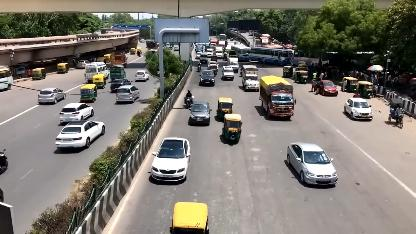auto-rikshaw: (221, 112, 243, 146), (216, 94, 235, 122), (356, 81, 376, 98), (342, 76, 358, 91), (294, 70, 309, 82), (283, 65, 293, 77)
bike: (184, 94, 194, 108)
bus: (250, 46, 293, 65), (231, 44, 252, 62)
car: (284, 138, 338, 190), (149, 128, 191, 194), (188, 98, 212, 128), (345, 98, 374, 120), (198, 68, 216, 88), (317, 80, 339, 96)
priority: (222, 65, 235, 81)
truck: (261, 78, 297, 122), (242, 64, 258, 92), (227, 57, 239, 73)
